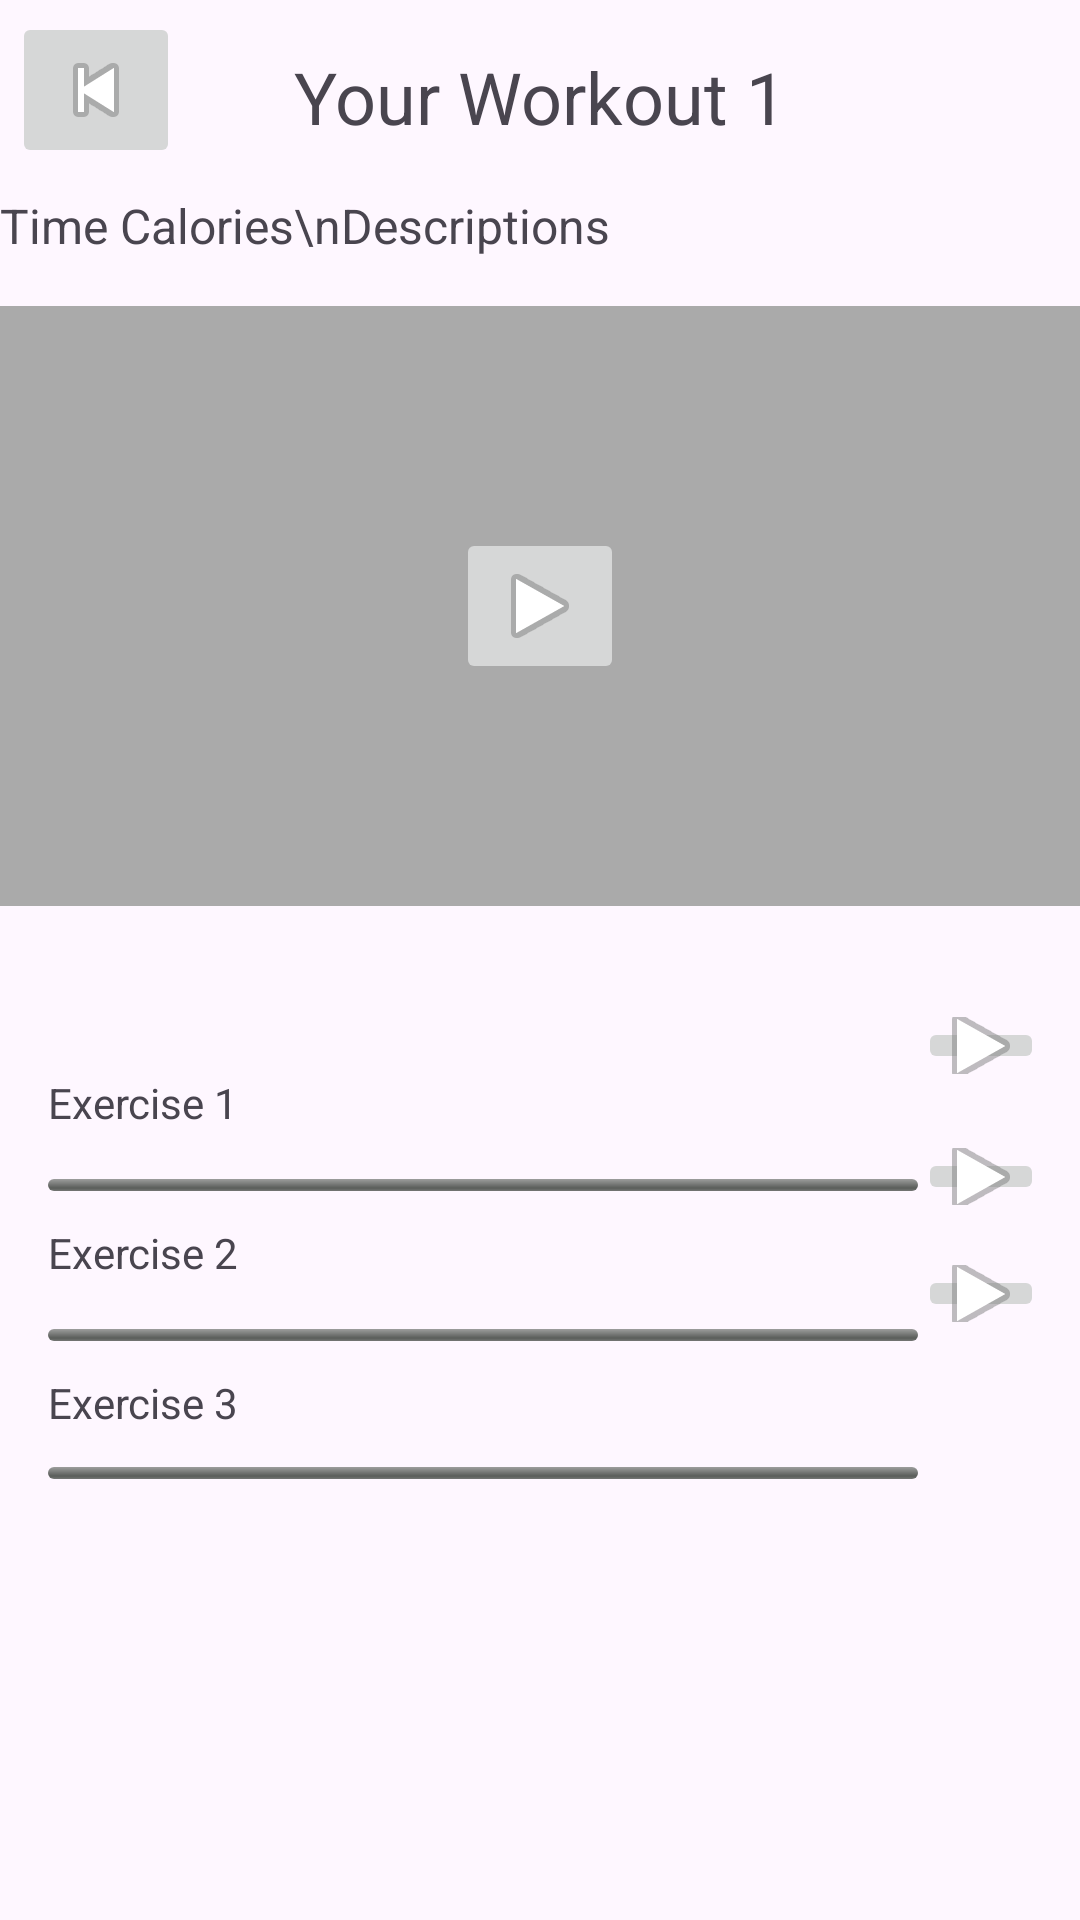

Where icons sit on this 1080*1920 app screen, as (x1, y1, x2, y2):
play: (468, 546, 612, 666), (930, 1017, 1032, 1074), (930, 1148, 1032, 1205), (930, 1265, 1032, 1322)
previous: (24, 30, 168, 150)
